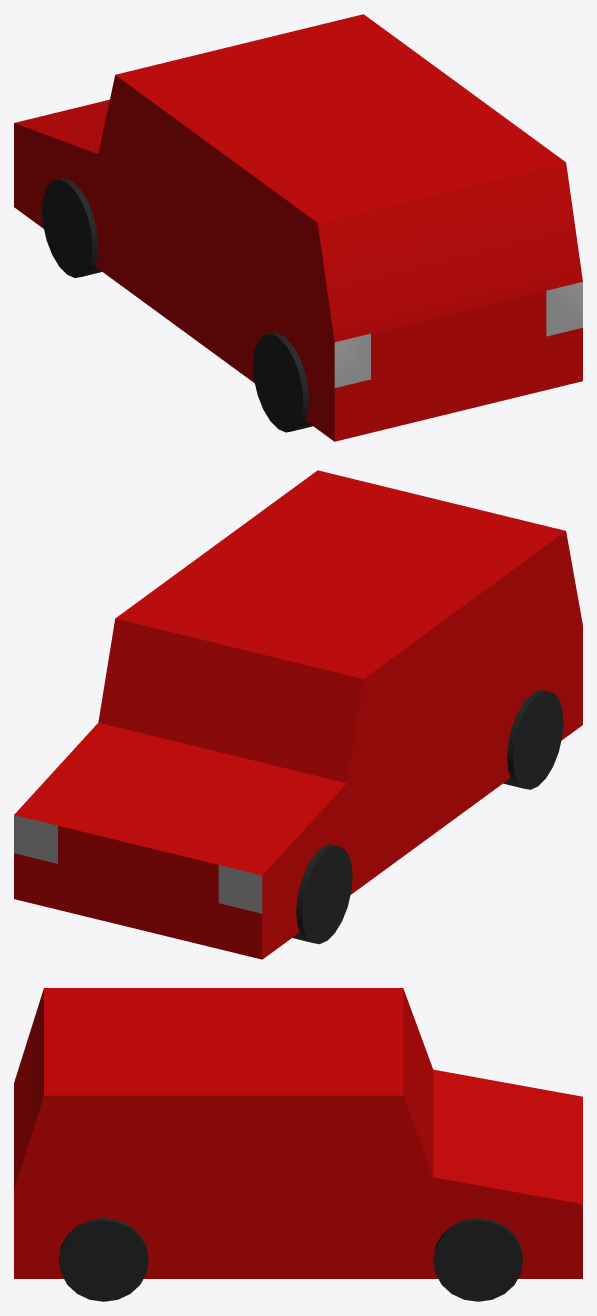
Rendered from Car.glb.
3 renders of one model, top to bottom at view 1: azimuth 30°, elevation 25°; view 2: azimuth 150°, elevation 25°; view 3: azimuth 270°, elevation 25°, orthographic. The views are drawn at different scales.
Parts seen in each view (by area): view 1: 車体, タイヤ; view 2: 車体, タイヤ; view 3: 車体, タイヤ.
Part boxes in pixels (x1,y1,x2,y2): 車体: (14,14,582,441); タイヤ: (42,178,312,432); 車体: (14,470,582,959); タイヤ: (292,690,563,944); 車体: (14,988,582,1278); タイヤ: (59,1218,522,1301).
Size of the model in its own units: 1.78 by 1.5 by 3.8.
